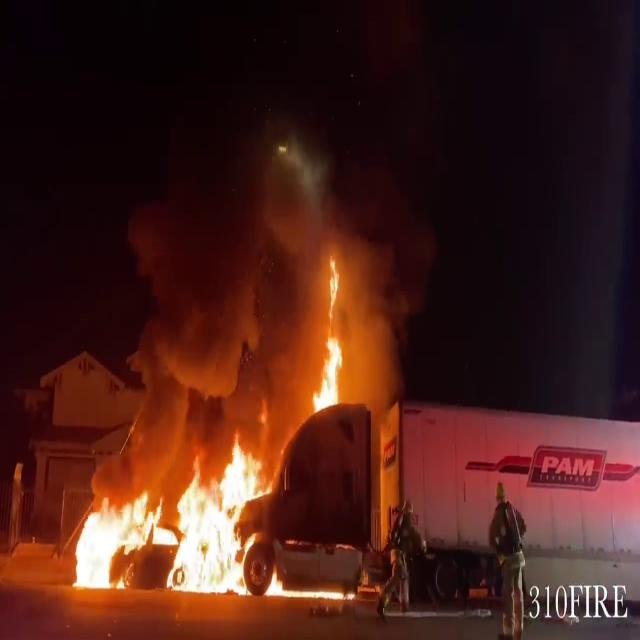Fire: (64, 426, 286, 596), (304, 264, 358, 424)
Smoke: (130, 94, 388, 419)
